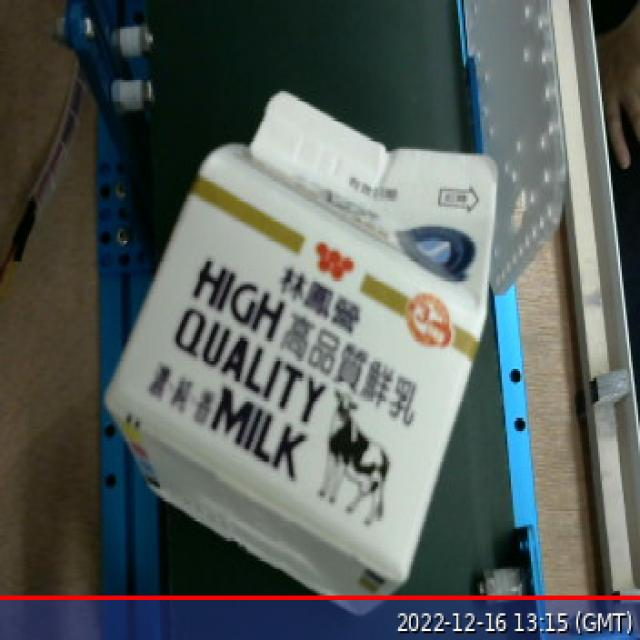non_white_jug: (79, 71, 537, 633)
